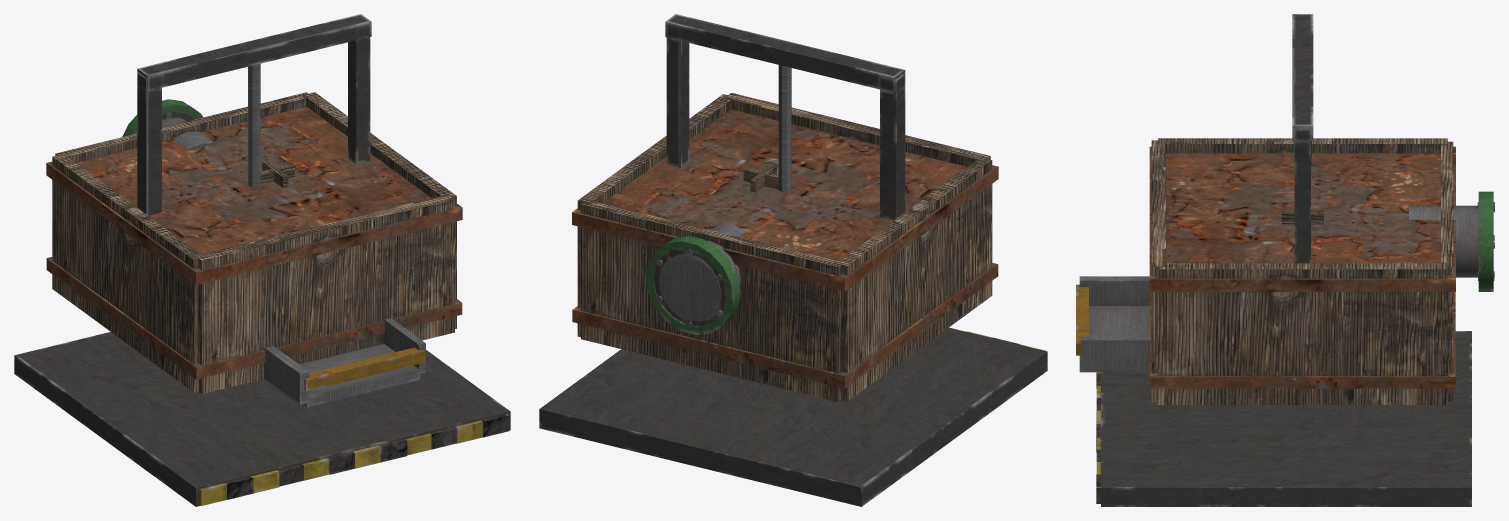
File: feCoagTank_HD.fbx
3 renders of one model, left to right at view 1: azimuth 30°, elevation 25°; view 2: azimuth 150°, elevation 25°; view 3: azimuth 270°, elevation 25°, orthographic. The views are drawn at different scales.
Visible parts, largest first — view 1: feCoagTank_Base, FeWorkSpin_x0.3_Paddle; view 2: feCoagTank_Base, FeWorkSpin_x0.3_Paddle; view 3: feCoagTank_Base.
Boxes of the visible parts, box(x1,y1,x2,y2) form: feCoagTank_Base: box(14, 14, 510, 506); FeWorkSpin_x0.3_Paddle: box(248, 63, 294, 188); feCoagTank_Base: box(539, 14, 1047, 506); FeWorkSpin_x0.3_Paddle: box(743, 65, 791, 192); feCoagTank_Base: box(1076, 14, 1494, 506).
Size of the model in its own units: 0.9012 by 0.9612 by 1.02.
2 materials, 1 textured.
